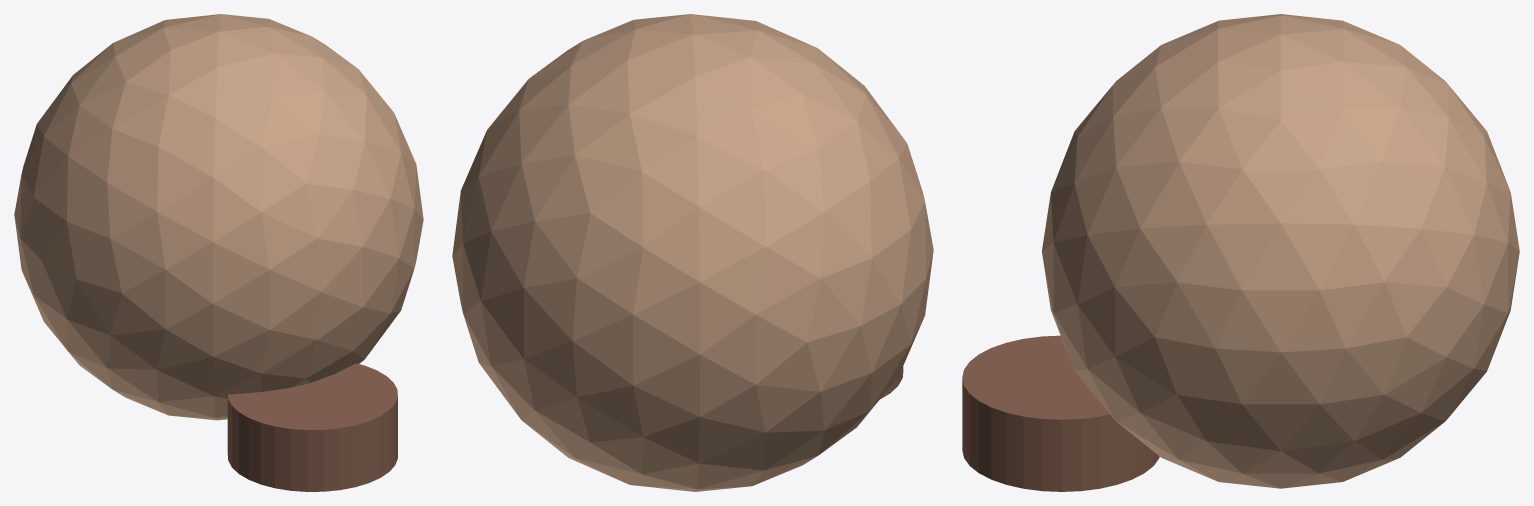
Rendered from anthill.glb.
3 renders of one model, left to right at view 1: azimuth 30°, elevation 25°; view 2: azimuth 150°, elevation 25°; view 3: azimuth 270°, elevation 25°, orthographic. The views are drawn at different scales.
Visible parts, largest first — view 1: world; view 2: world; view 3: world.
Part boxes in pixels (x1=…): world: x1=14, y1=14, x2=423, y2=491; world: x1=452, y1=14, x2=933, y2=491; world: x1=962, y1=14, x2=1519, y2=491.
Size of the model in its own units: 2.4 by 2.4 by 2.8.
